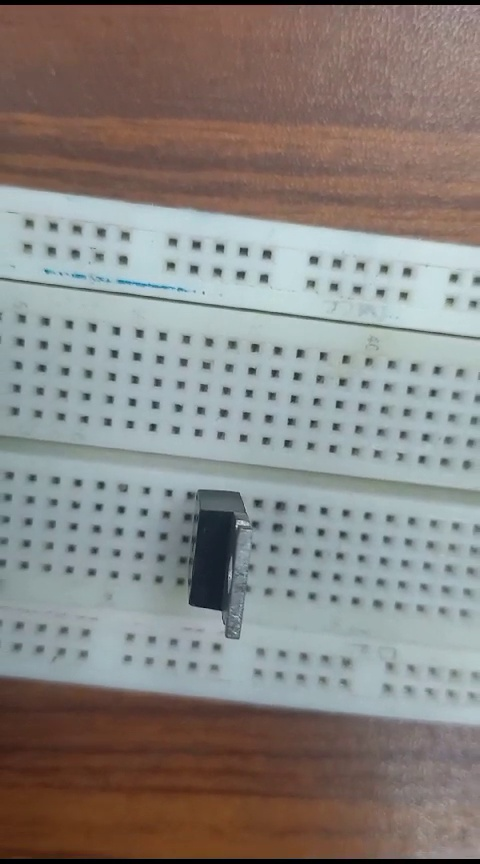voltage regulator: (182, 484, 262, 655)
